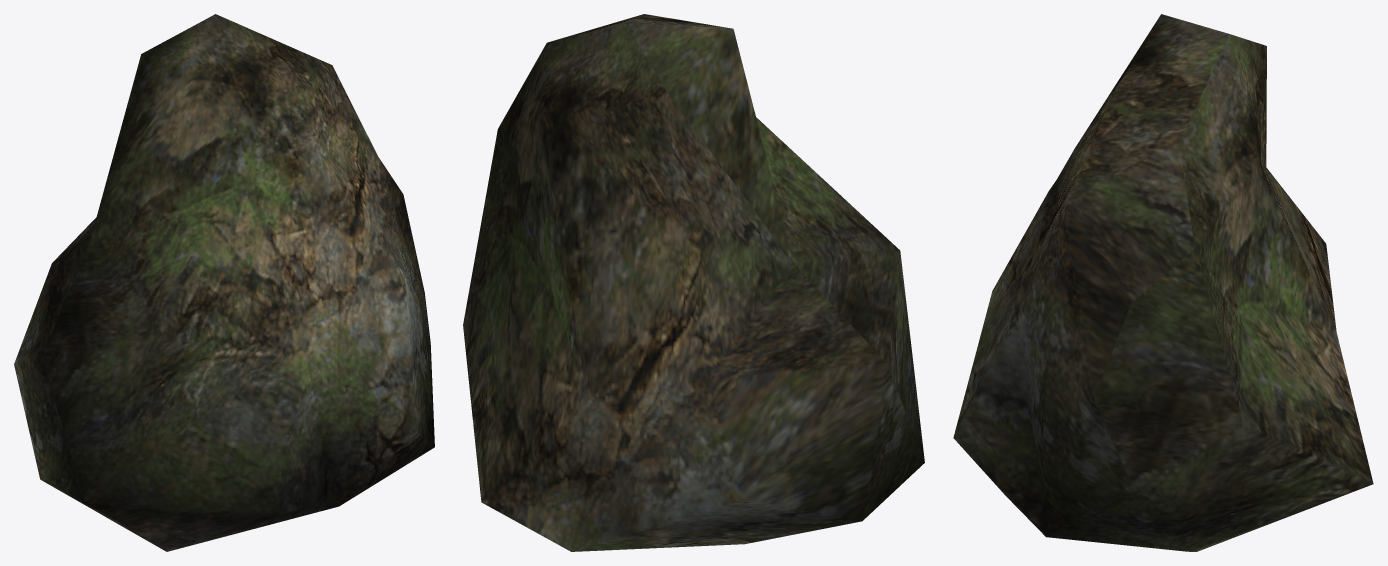
The picture shows the model from 3 angles, left to right: view 1: azimuth 30°, elevation 25°; view 2: azimuth 150°, elevation 25°; view 3: azimuth 270°, elevation 25°; orthographic projection. The views are drawn at different scales.
Parts seen in each view (by area): view 1: SMDImport; view 2: SMDImport; view 3: SMDImport.
Part boxes in pixels (<box>): SMDImport: <box>14,14,434,551</box>; SMDImport: <box>463,14,924,551</box>; SMDImport: <box>953,14,1373,551</box>.
Size of the model in its own units: 261 by 312 by 238.
